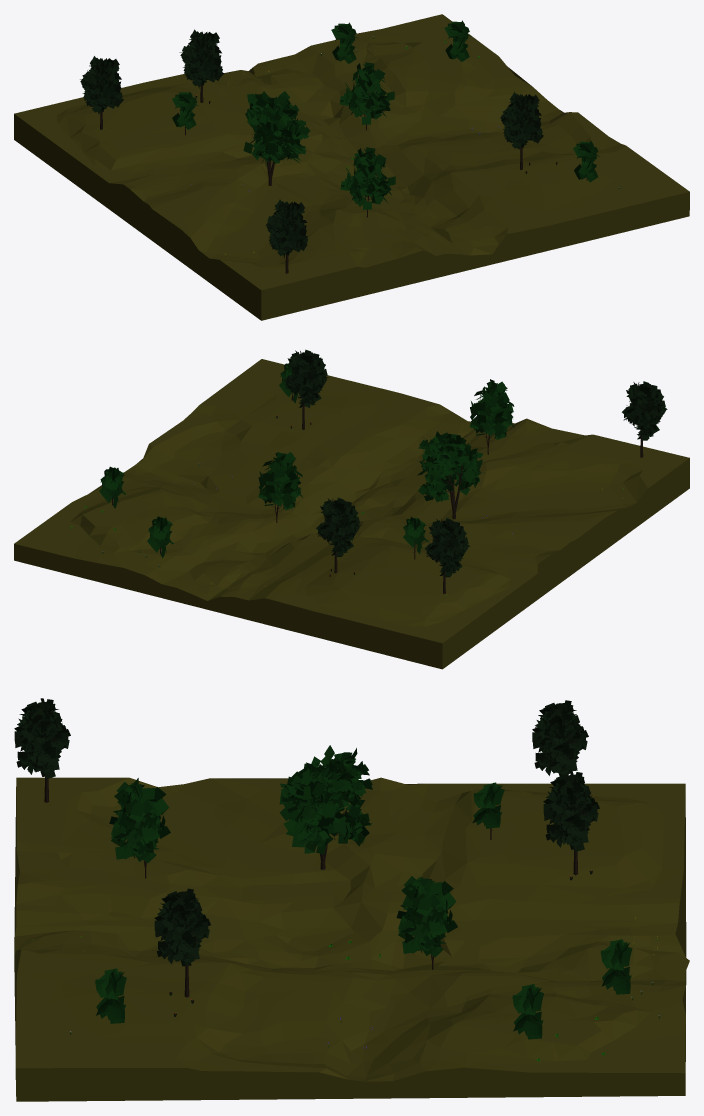
The model's file is Environment_Combined.obj.
3 renders of one model, top to bottom at view 1: azimuth 30°, elevation 25°; view 2: azimuth 150°, elevation 25°; view 3: azimuth 270°, elevation 25°, orthographic. The views are drawn at different scales.
Visible parts, largest first — view 1: Cube, leaf003.009, leaf003.007, leaf003.008, leaf003.027, leaf003.004, leaf003.006, leaf003.005, leaf003.001, leaf003.003, leaf003.041, leaf003.002; view 2: Cube, leaf003.009, leaf003.007, leaf003.008, leaf003.004, leaf003.006, leaf003.027, leaf003.005, leaf003.003, leaf003.041, leaf003.002; view 3: Cube, leaf003.009, leaf003.008, leaf003.007, leaf003.004, leaf003.027, leaf003.005, leaf003.006, leaf003.041, leaf003.003, leaf003.001, leaf003.002.
Part boxes in pixels (left/top/right/bottom): Cube: left=14, top=14, right=689, bottom=320; leaf003.009: left=243, top=91, right=310, bottom=166; leaf003.007: left=340, top=147, right=395, bottom=209; leaf003.008: left=339, top=62, right=394, bottom=124; leaf003.027: left=179, top=29, right=223, bottom=88; leaf003.004: left=266, top=199, right=308, bottom=258; leaf003.006: left=80, top=56, right=123, bottom=114; leaf003.005: left=500, top=92, right=543, bottom=149; leaf003.001: left=573, top=140, right=599, bottom=182; leaf003.003: left=331, top=22, right=358, bottom=63; leaf003.041: left=444, top=20, right=471, bottom=61; leaf003.002: left=172, top=92, right=198, bottom=129; Cube: left=14, top=359, right=689, bottom=669; leaf003.009: left=417, top=431, right=483, bottom=502; leaf003.007: left=470, top=379, right=514, bottom=439; leaf003.008: left=258, top=452, right=303, bottom=510; leaf003.004: left=622, top=381, right=667, bottom=440; leaf003.006: left=424, top=518, right=470, bottom=577; leaf003.027: left=316, top=497, right=361, bottom=556; leaf003.005: left=283, top=349, right=329, bottom=408; leaf003.003: left=147, top=516, right=173, bottom=557; leaf003.041: left=99, top=466, right=125, bottom=508; leaf003.002: left=403, top=517, right=428, bottom=553; Cube: left=14, top=777, right=689, bottom=1101; leaf003.009: left=279, top=745, right=372, bottom=854; leaf003.008: left=396, top=876, right=457, bottom=957; leaf003.007: left=109, top=778, right=170, bottom=862; leaf003.004: left=14, top=698, right=70, bottom=779; leaf003.027: left=543, top=771, right=599, bottom=851; leaf003.005: left=154, top=888, right=210, bottom=966; leaf003.006: left=532, top=700, right=588, bottom=776; leaf003.041: left=512, top=984, right=543, bottom=1039; leaf003.003: left=600, top=939, right=632, bottom=994; leaf003.001: left=95, top=968, right=126, bottom=1023; leaf003.002: left=472, top=782, right=504, bottom=828.
Size of the model in its own units: 80.18 by 19.65 by 80.79.
